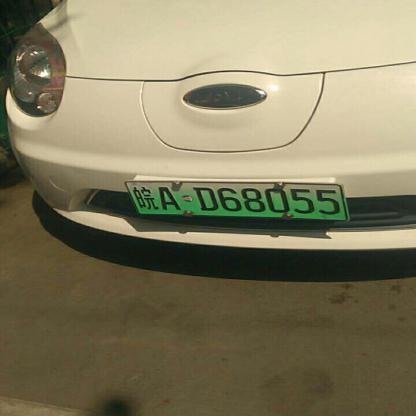lp: (123, 180, 347, 219)
